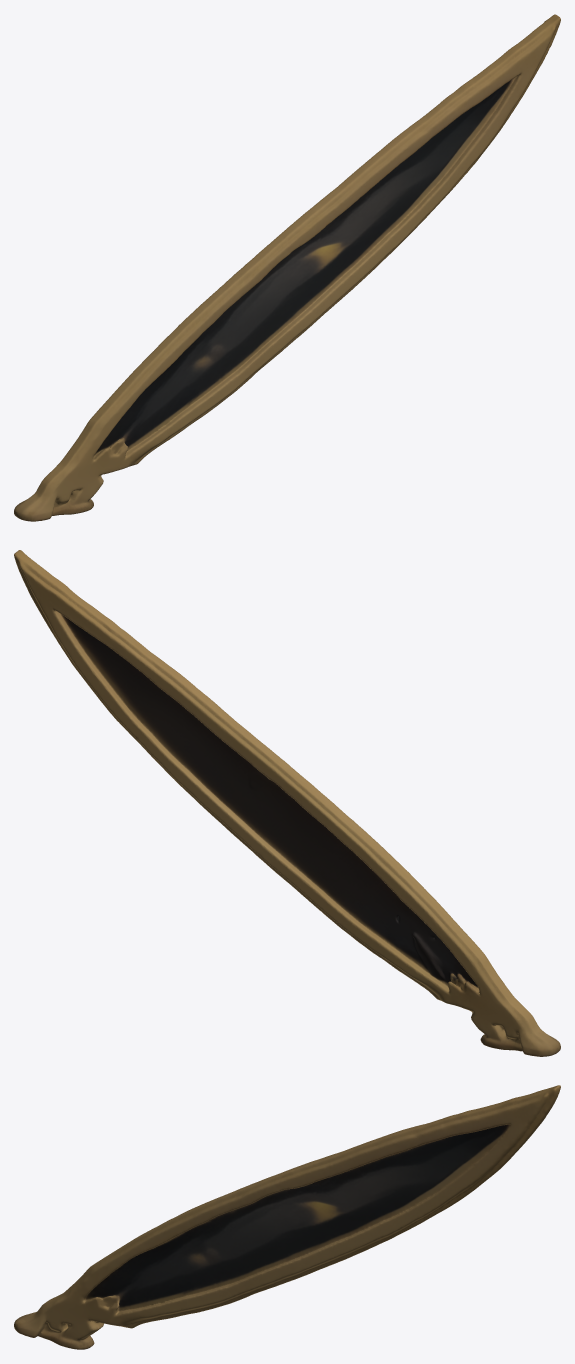
File: ear_single_ref-6.glb
3 renders of one model, top to bottom at view 1: azimuth 30°, elevation 25°; view 2: azimuth 150°, elevation 25°; view 3: azimuth 330°, elevation 25°, orthographic.
Bounding box in the file's own units: 1 × 0.6631 × 0.055.
1 material, 1 textured.
